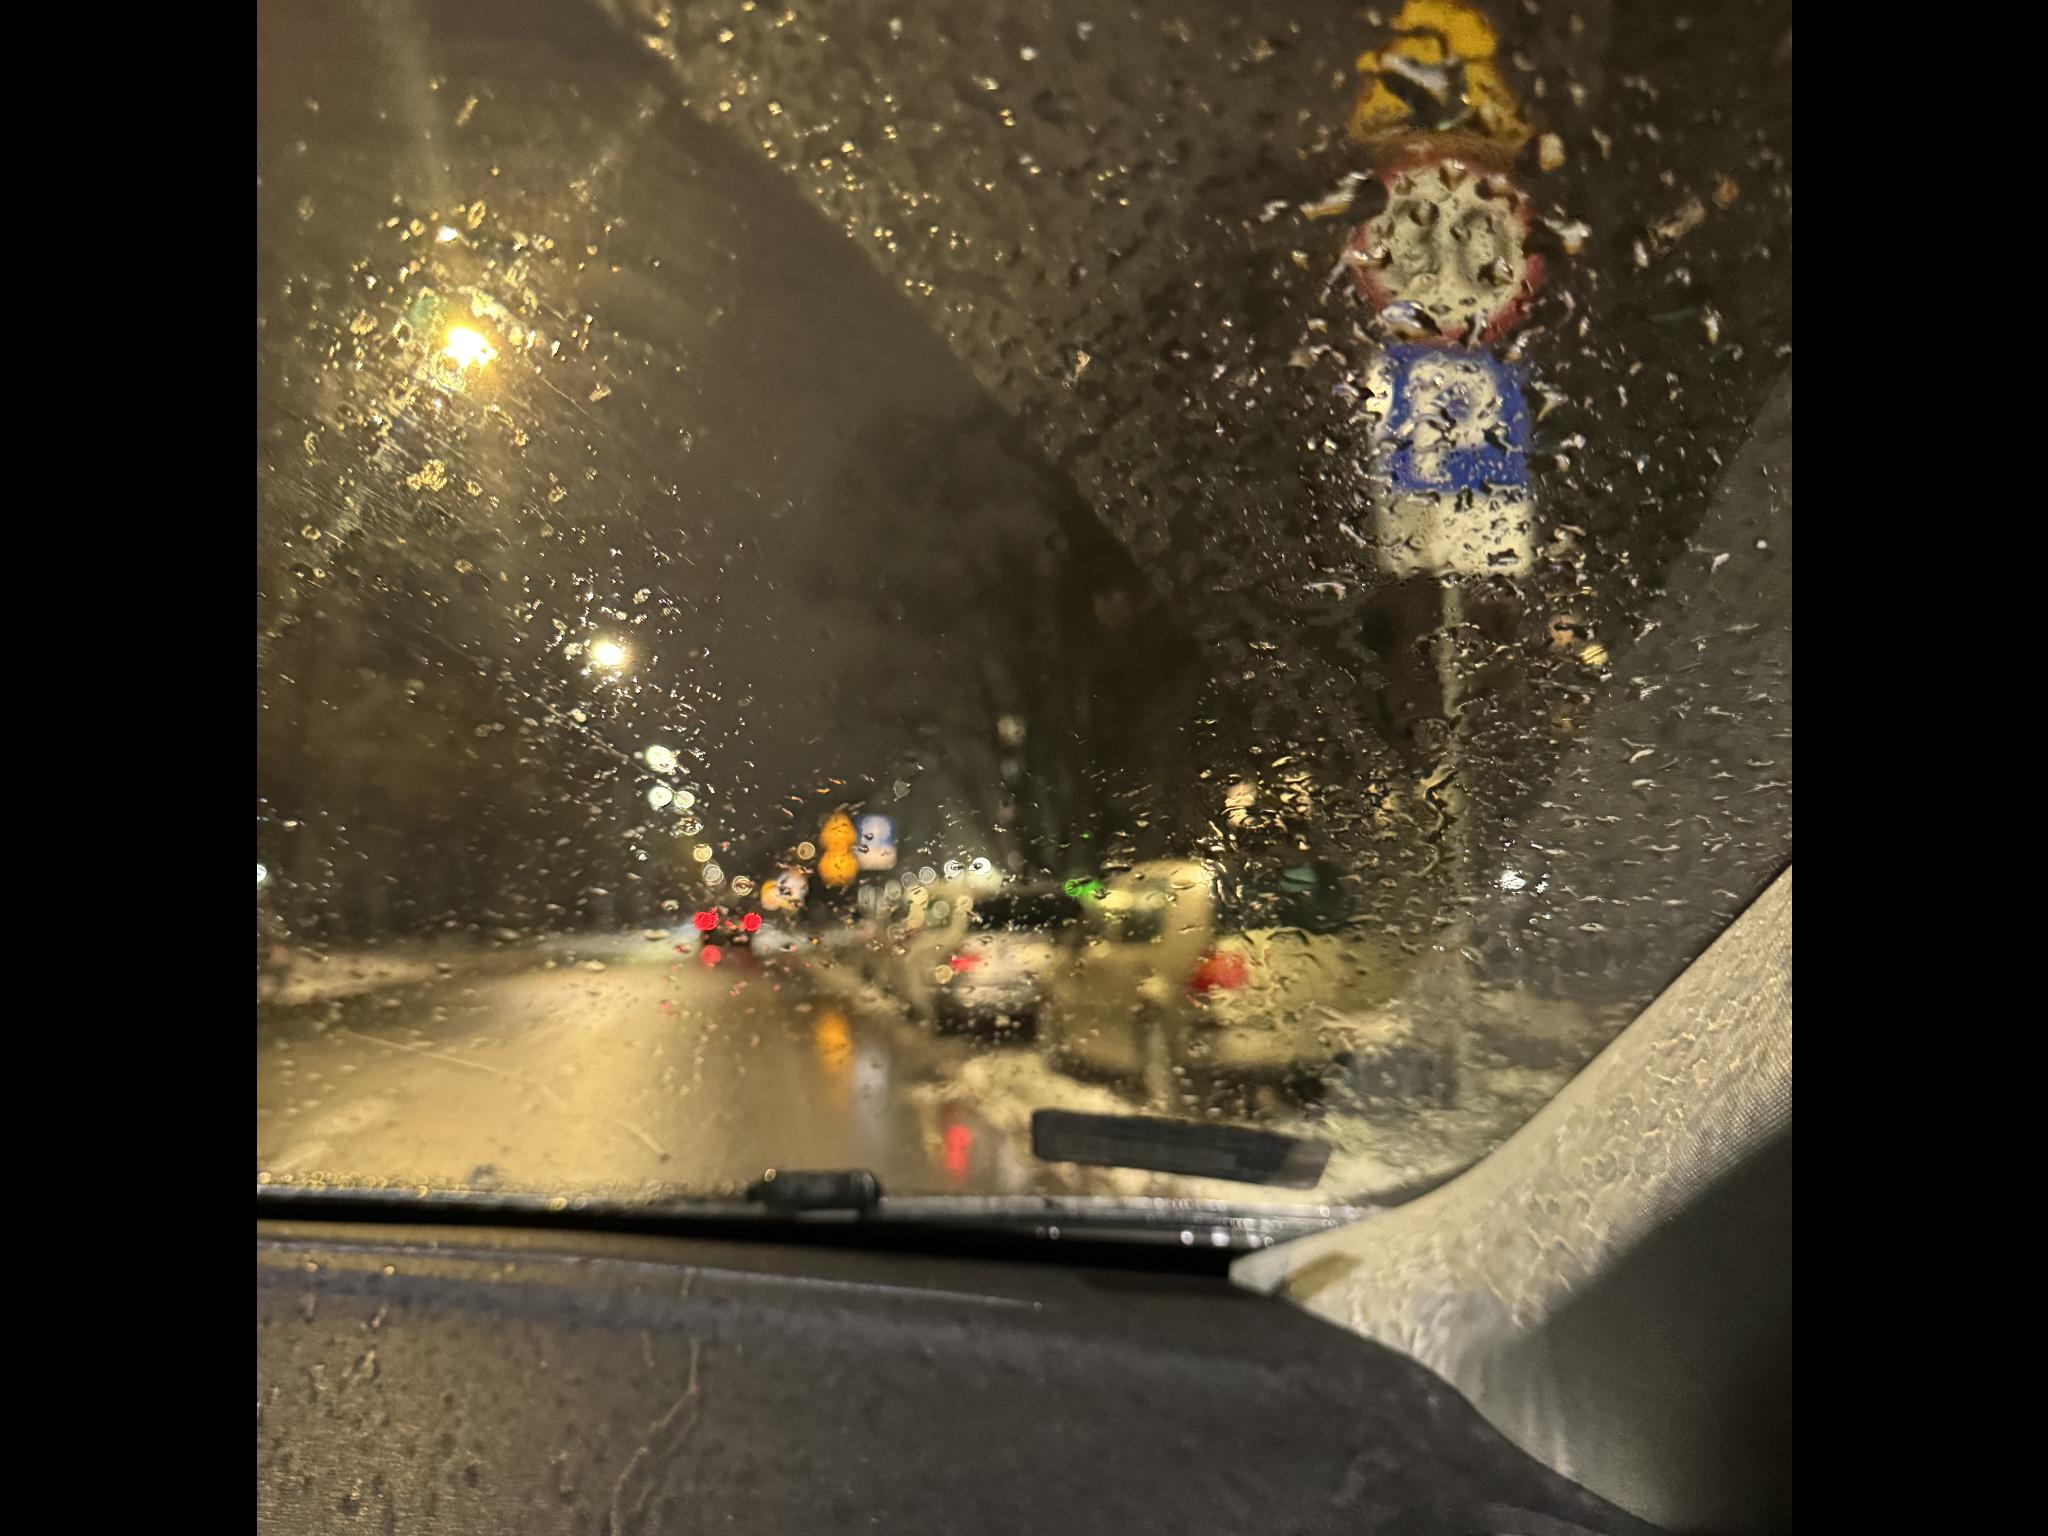information: (1045, 858, 1187, 1020)
prohibitory: (1193, 842, 1380, 1037)
warning: (1379, 834, 1563, 1026)
